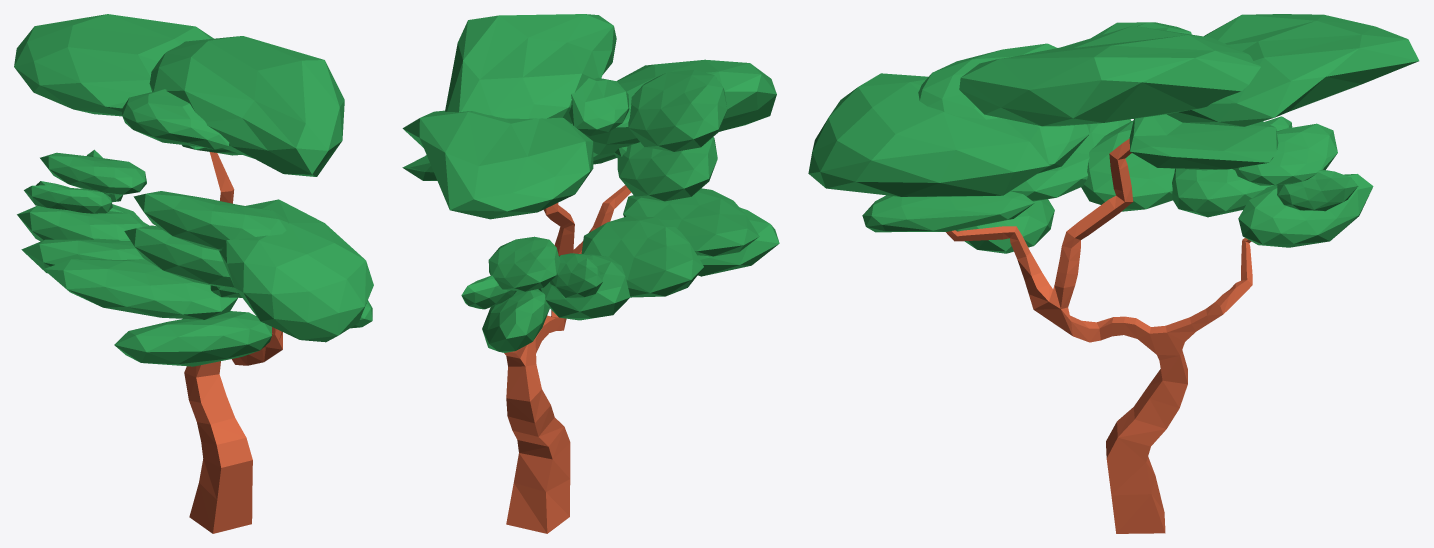
The model's file is JuniperStandart.fbx.
3 views of the same model, side by side, from view 1: azimuth 30°, elevation 25°; view 2: azimuth 150°, elevation 25°; view 3: azimuth 270°, elevation 25° (orthographic). The views are drawn at different scales.
Visible parts, largest first — view 1: juniper; view 2: juniper; view 3: juniper.
Part boxes in pixels (box(x1,y1,x2,y2)): juniper: box(14, 14, 373, 533); juniper: box(402, 14, 779, 533); juniper: box(808, 14, 1419, 533).
Bounding box in the file's own units: 915 × 1432 × 1594.
